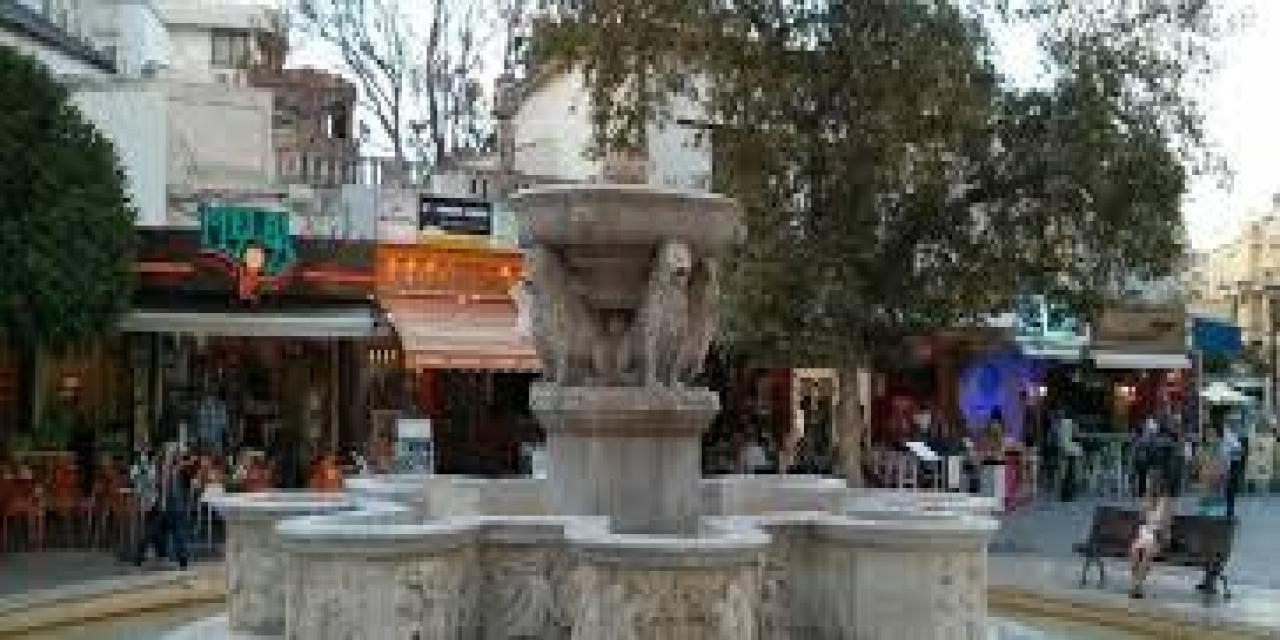Liontaria: (208, 183, 1002, 640)
